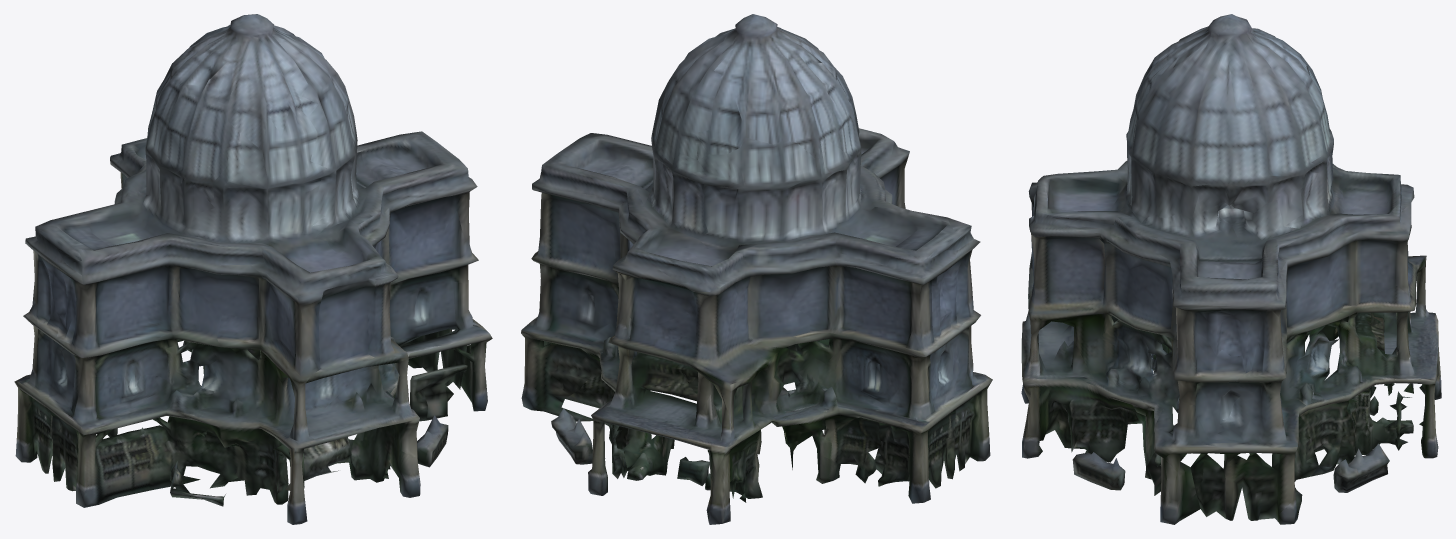
The model's file is alchemist_laboratory.glb.
3 renders of one model, left to right at view 1: azimuth 30°, elevation 25°; view 2: azimuth 150°, elevation 25°; view 3: azimuth 270°, elevation 25°, orthographic.
Parts seen in each view (by area): view 1: AlchemistLaboratory; view 2: AlchemistLaboratory; view 3: AlchemistLaboratory.
Boxes of the visible parts, x1=… form: AlchemistLaboratory: x1=14, y1=14, x2=492, y2=524; AlchemistLaboratory: x1=521, y1=14, x2=992, y2=524; AlchemistLaboratory: x1=1021, y1=14, x2=1441, y2=524.
Size of the model in its own units: 15 by 14.75 by 13.63.
1 material, 1 textured.
